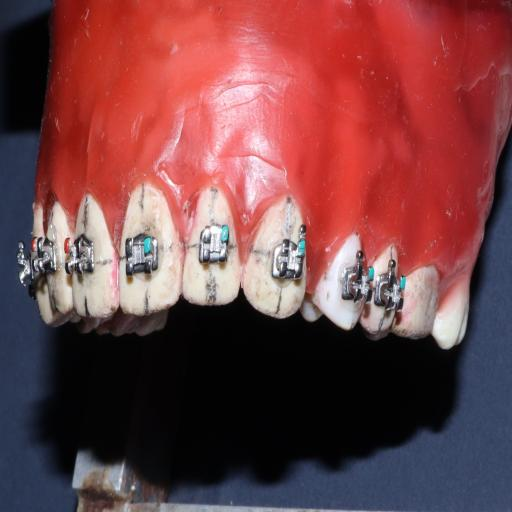incorrect_brace: (117, 174, 183, 320), (124, 233, 160, 278), (199, 222, 229, 266)
